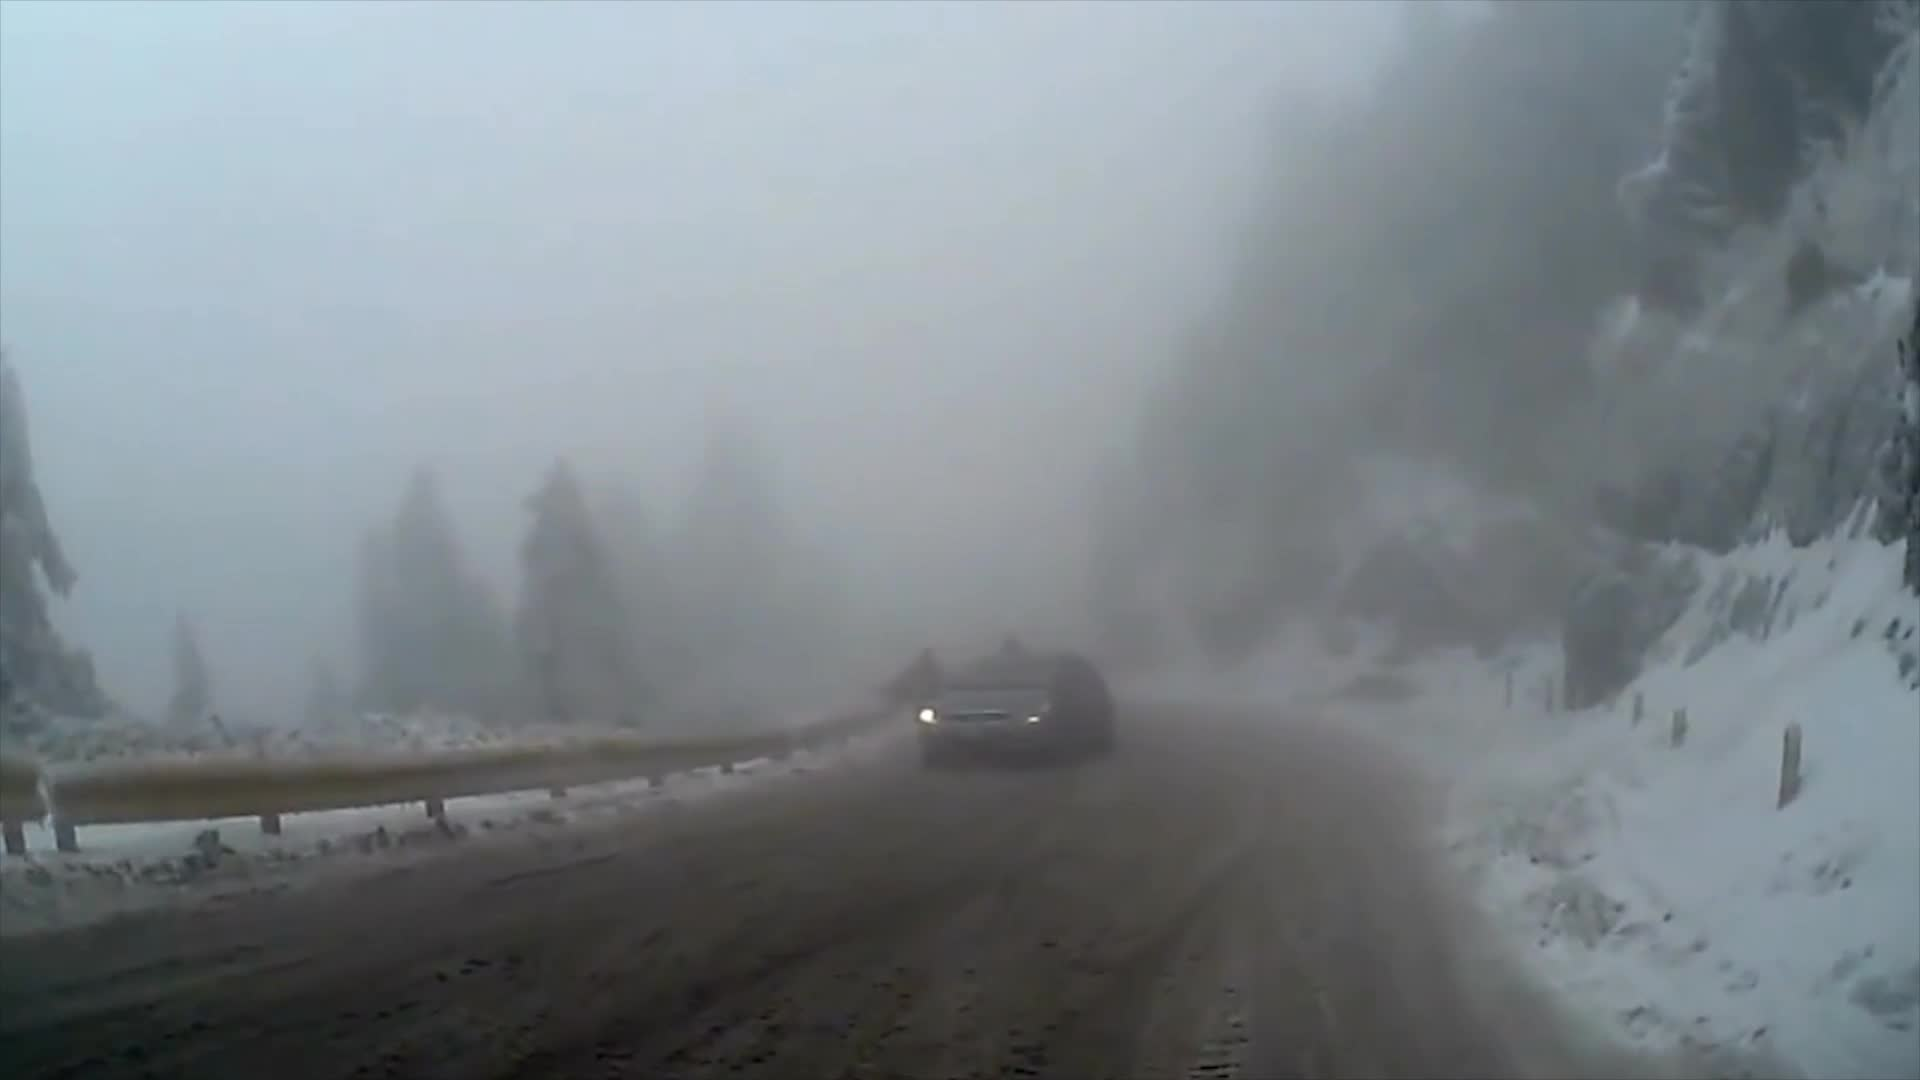vehicle: (913, 650, 1116, 773)
